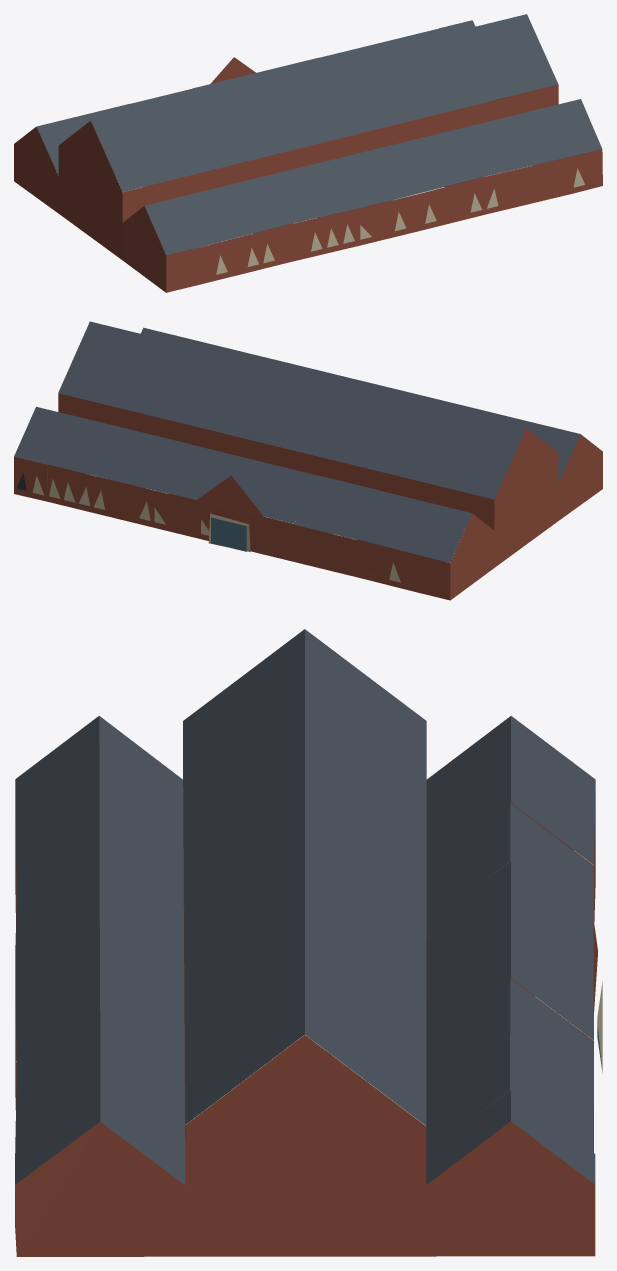
File: zuiveringshal-west.lod2.glb
The picture shows the model from 3 angles, top to bottom: view 1: azimuth 30°, elevation 25°; view 2: azimuth 150°, elevation 25°; view 3: azimuth 270°, elevation 25°; orthographic projection. The views are drawn at different scales.
Visible parts, largest first — view 1: lod2; view 2: lod2; view 3: lod2.
Boxes of the visible parts, x1=… form: lod2: x1=14, y1=14, x2=602, y2=292; lod2: x1=14, y1=321, x2=602, y2=600; lod2: x1=15, y1=629, x2=602, y2=1256.
Size of the model in its own units: 68.13 by 17.36 by 41.73.
